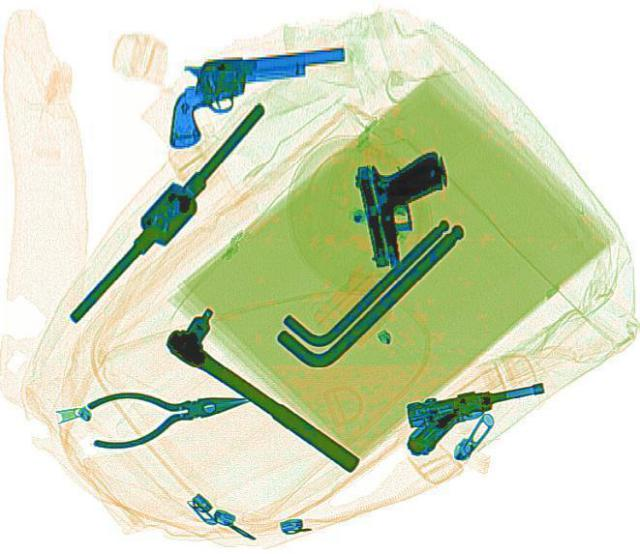Gun: (156, 45, 356, 146), (392, 375, 558, 456), (353, 147, 457, 267)
Pliers: (80, 372, 254, 451)
